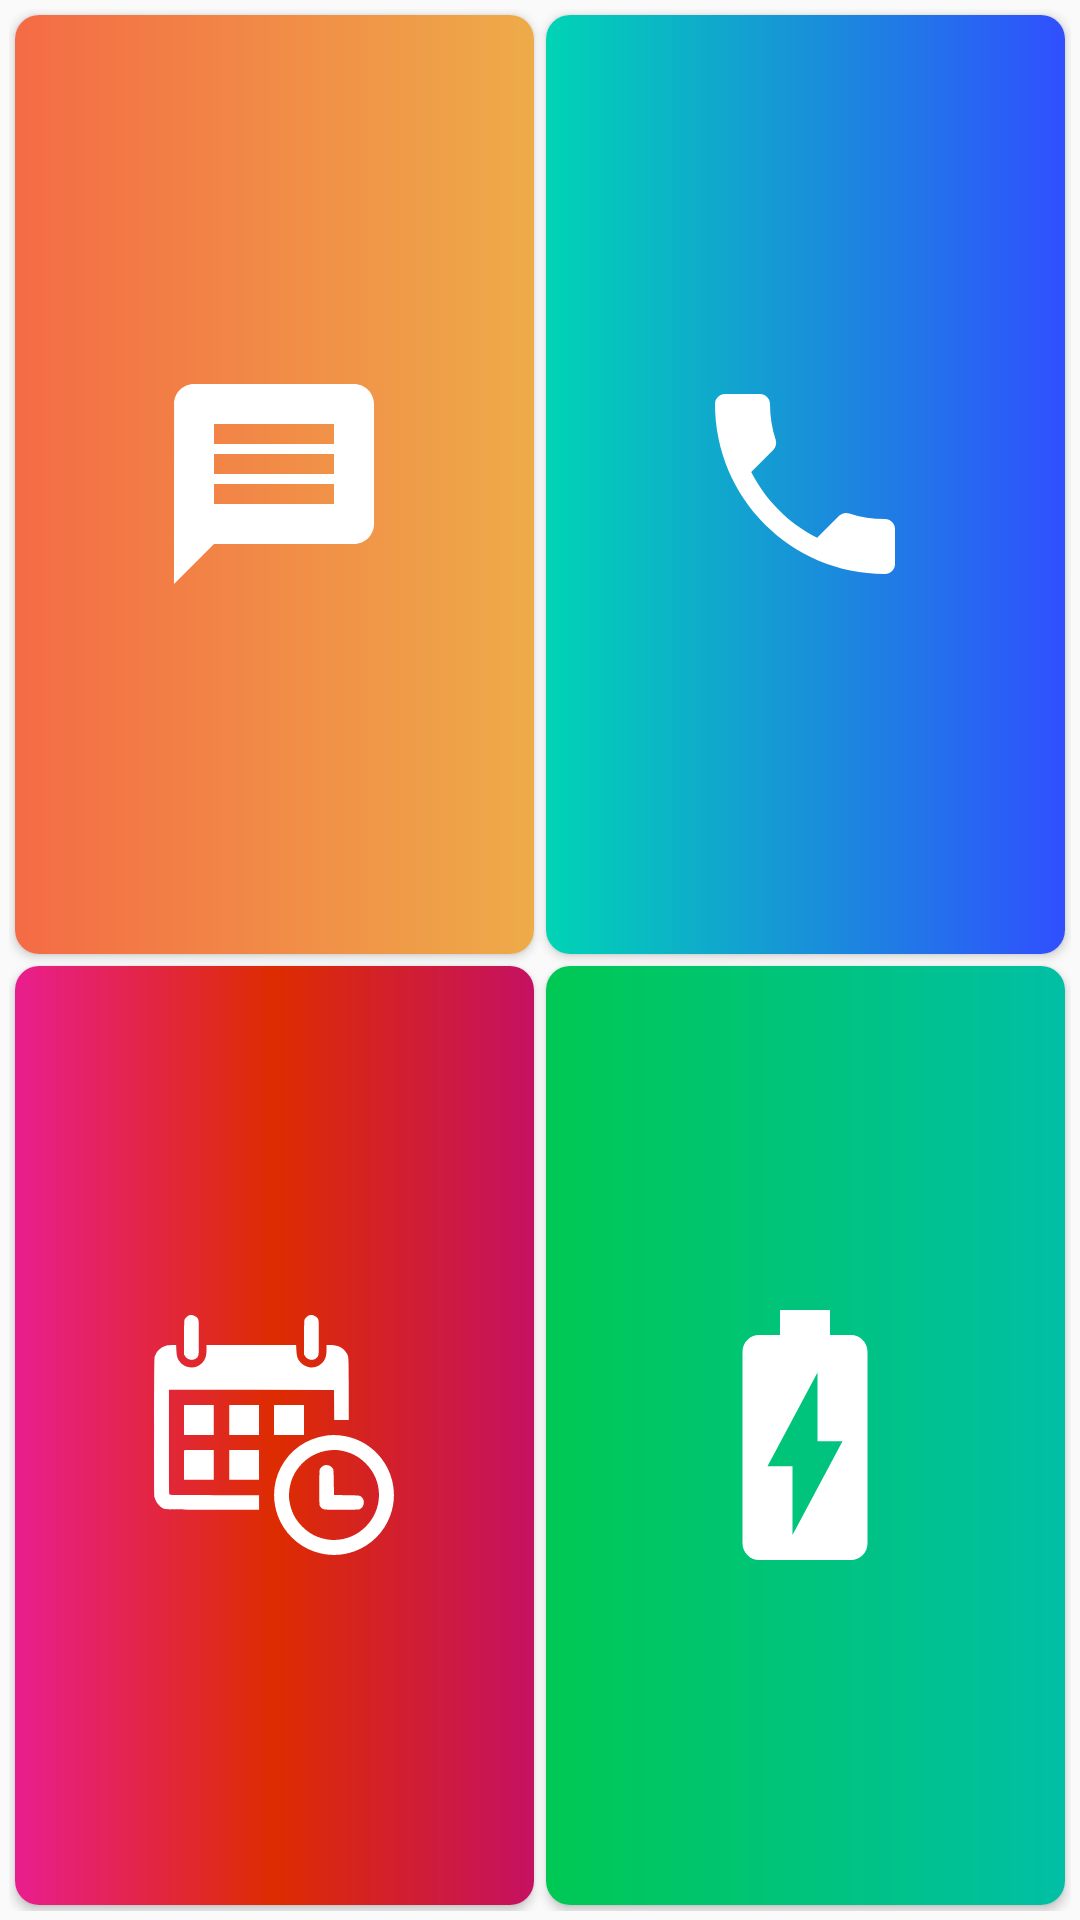

Point at icon controls on the screen. Image size 1080×1920, points as (x,y).
battery charging full: (805,1435)
call: (805,484)
message: (284,484)
time: (274,1435)
